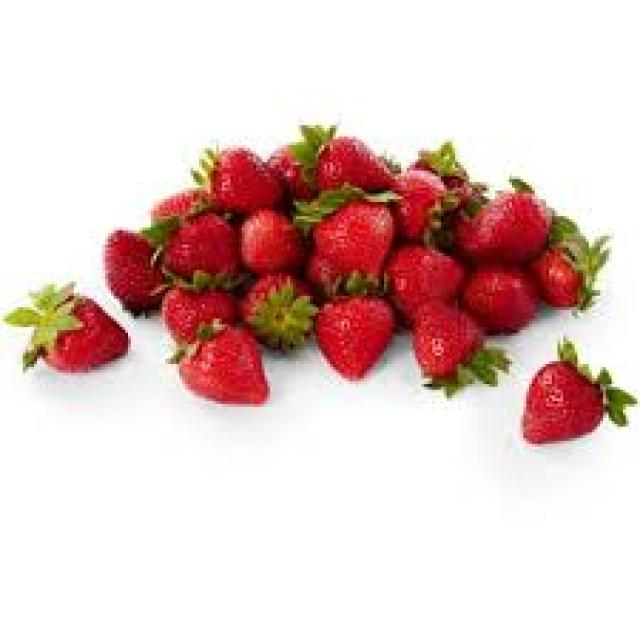strawberry: (509, 345, 631, 446), (20, 284, 146, 373), (168, 326, 274, 407), (408, 298, 496, 392), (454, 185, 561, 258), (305, 190, 390, 280), (312, 286, 389, 378), (158, 208, 244, 286), (208, 143, 286, 210)
